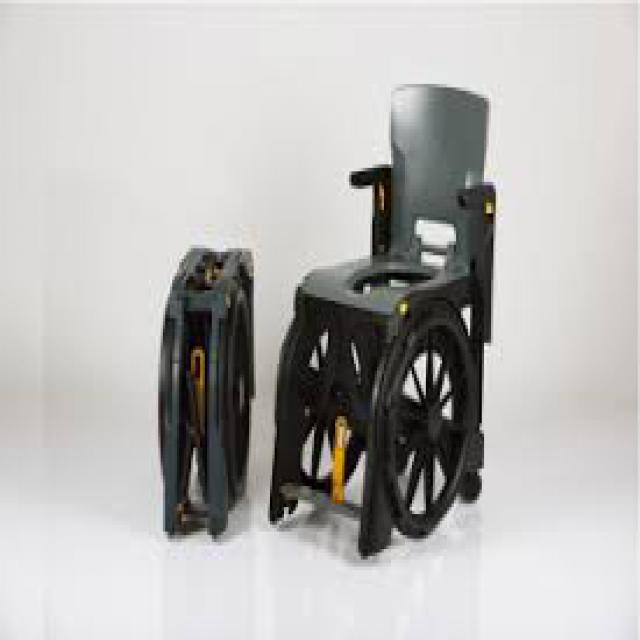wheelchair: (263, 67, 512, 622)
